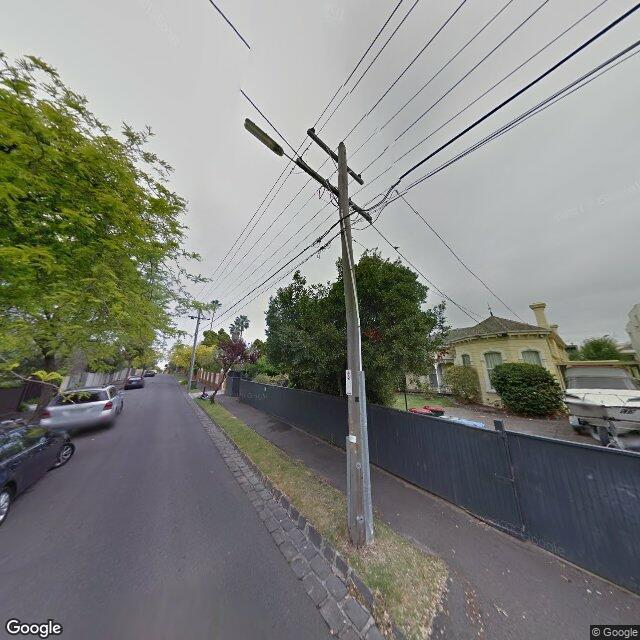HV-transmission: (306, 127, 364, 186)
crossarm: (295, 157, 373, 224), (306, 129, 365, 185), (188, 315, 209, 321)
streetlight: (243, 117, 296, 163)
timber-pole: (337, 148, 374, 545), (187, 313, 201, 388)
